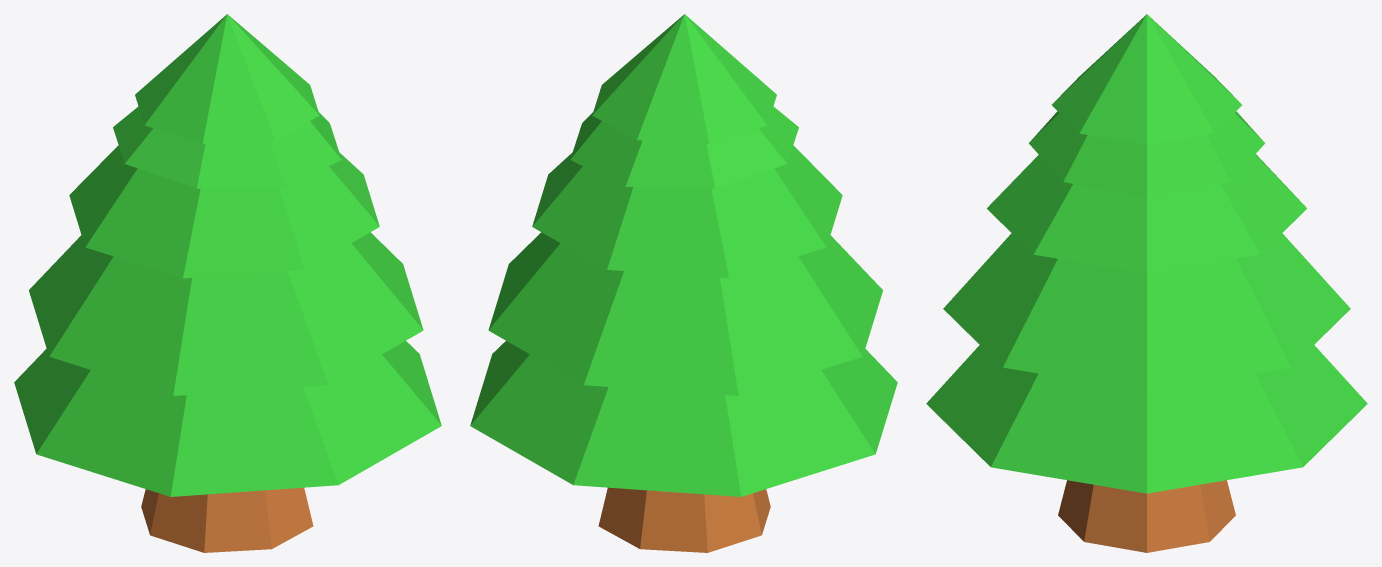
File: tree.glb
3 renders of one model, left to right at view 1: azimuth 30°, elevation 25°; view 2: azimuth 150°, elevation 25°; view 3: azimuth 270°, elevation 25°, orthographic.
Parts seen in each view (by area): view 1: Cylinder.001, Cylinder; view 2: Cylinder.001, Cylinder; view 3: Cylinder.001, Cylinder.
Part boxes in pixels (box(x1,y1,x2,y2)): Cylinder.001: box(14, 14, 441, 496); Cylinder: box(141, 487, 313, 552); Cylinder.001: box(470, 14, 897, 496); Cylinder: box(598, 487, 770, 552); Cylinder.001: box(926, 14, 1367, 493); Cylinder: box(1058, 480, 1235, 552).
Bounding box in the file's own units: 5.04 × 6.31 × 5.04.
